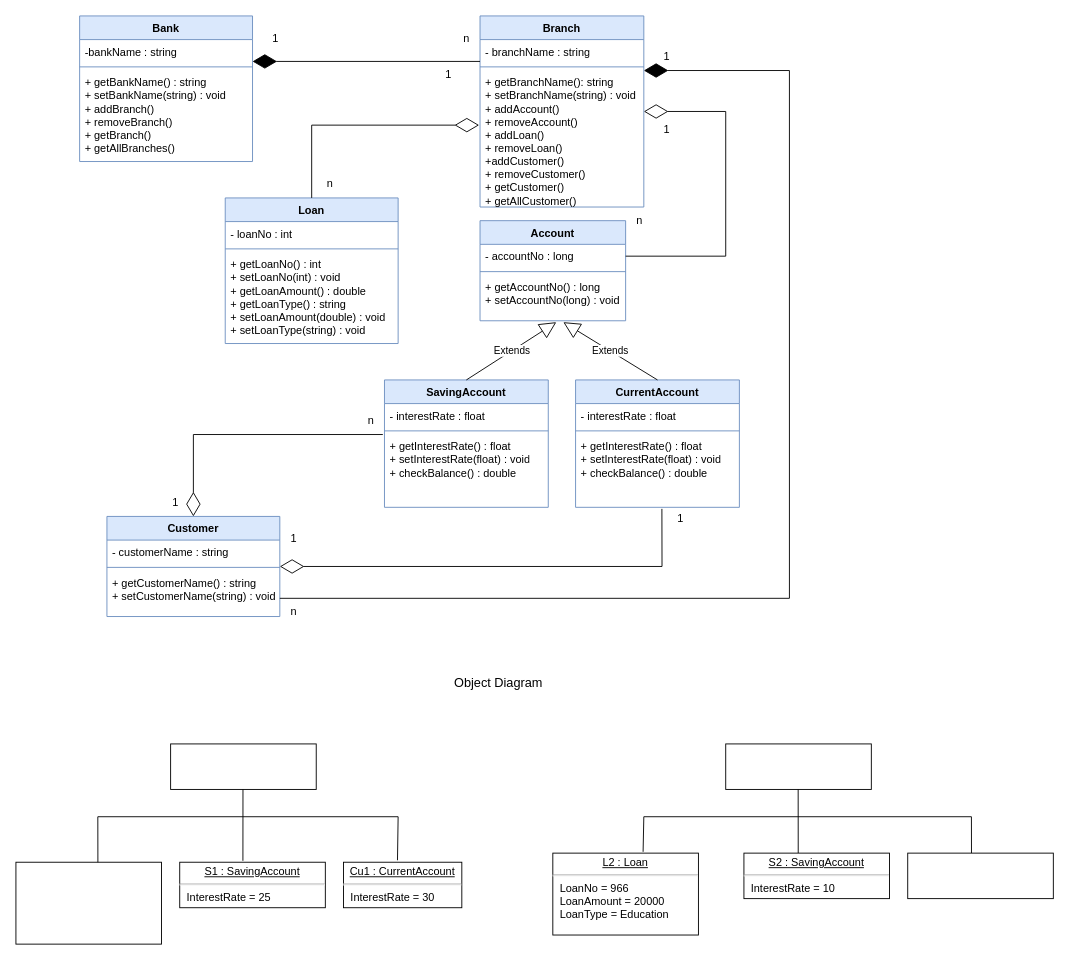
This 1069x960 diagram has some shape labels left out. The shapes that lost their labels are listed below. From the top down, each one's centre as x and y in pixels, then its label:
the point at 243,766: C1 : Customer customerName = Hephzi
the point at 798,766: C2 : Customer2 customerName = Swetha
the point at 980,875: Cu2 : CurrentAccount InterestRate = 15
the point at 88,902: L1 : Loan LoanNo = 119 LoanAmount = 500000 LoanType = Homeloan
